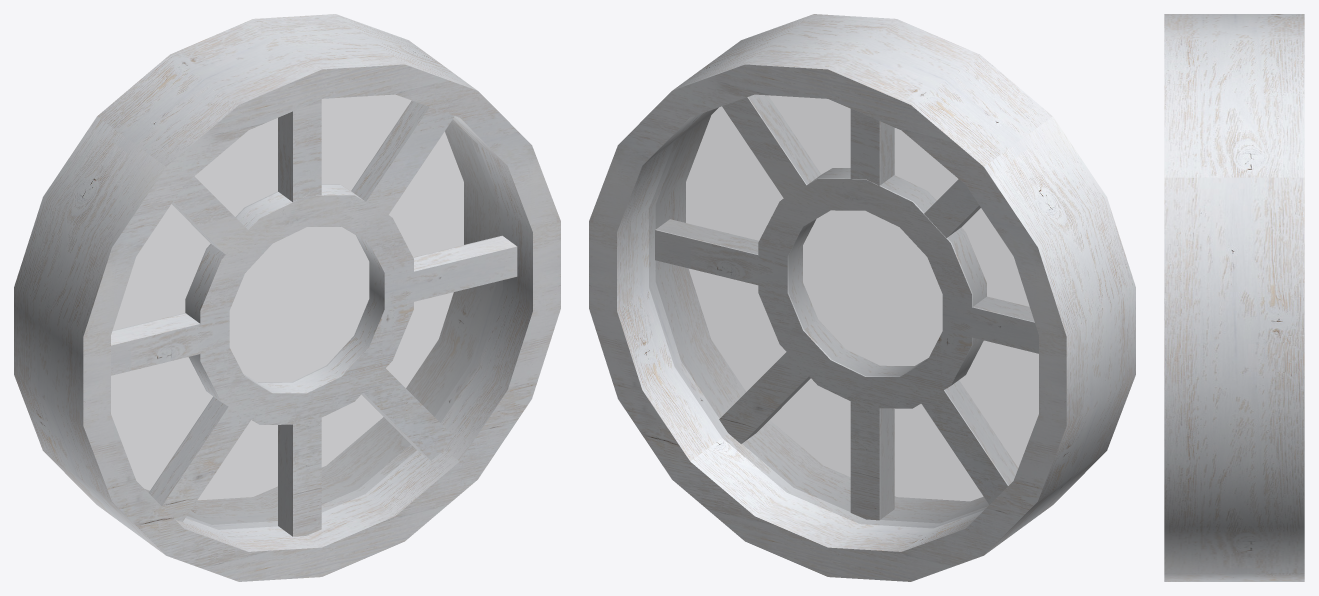
File: Window 2.FBX
3 views of the same model, side by side, from view 1: azimuth 30°, elevation 25°; view 2: azimuth 150°, elevation 25°; view 3: azimuth 270°, elevation 25° (orthographic).
Parts seen in each view (by area): view 1: window 2; view 2: window 2; view 3: window 2.
Part boxes in pixels (x1,y1,x2,y2): window 2: [14, 14, 560, 581]; window 2: [589, 14, 1135, 581]; window 2: [1164, 14, 1304, 581].
Bounding box in the file's own units: 99.74 × 101 × 24.96.
Materials: 2 (1 with a texture image).
